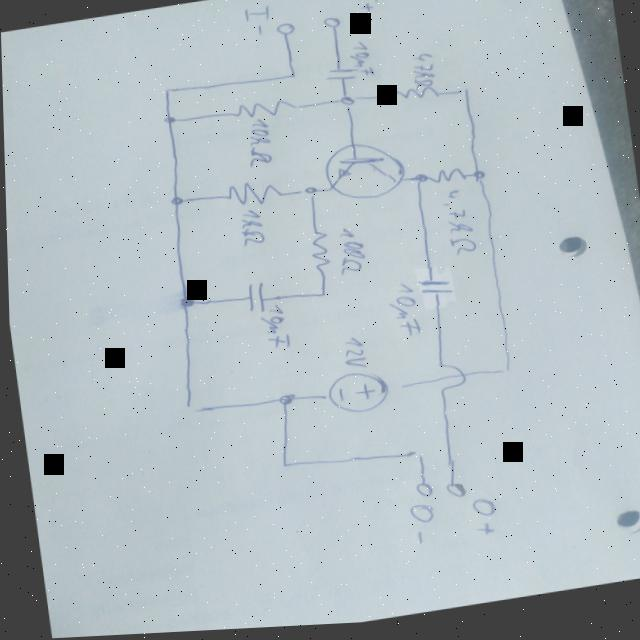capacitor: (241, 283, 265, 319), (413, 280, 452, 302), (323, 68, 359, 87)
crossover: (430, 361, 466, 399)
junction: (334, 96, 356, 115), (172, 294, 194, 313), (177, 402, 200, 419), (273, 394, 295, 411), (299, 186, 318, 203), (468, 172, 486, 189), (165, 194, 184, 210), (158, 114, 177, 129), (410, 174, 427, 190), (404, 451, 422, 466), (272, 460, 290, 475), (310, 290, 328, 305), (493, 368, 510, 383), (280, 72, 298, 85), (157, 86, 175, 99), (457, 90, 470, 102)
resistor: (219, 178, 284, 214), (230, 97, 302, 126), (303, 232, 332, 276), (386, 88, 440, 109), (426, 170, 466, 192)
source: (321, 369, 392, 420)
terminal: (439, 484, 465, 505), (272, 22, 296, 40), (411, 484, 431, 503), (319, 18, 342, 34)
text: (437, 191, 477, 262), (382, 285, 420, 344), (241, 119, 275, 173), (255, 305, 291, 355), (332, 228, 366, 280), (402, 505, 435, 550), (466, 499, 497, 543), (406, 55, 437, 97), (236, 209, 266, 252), (336, 337, 366, 376), (241, 5, 273, 41), (347, 41, 374, 80), (353, 0, 381, 18)
transistor: (317, 139, 409, 211)
